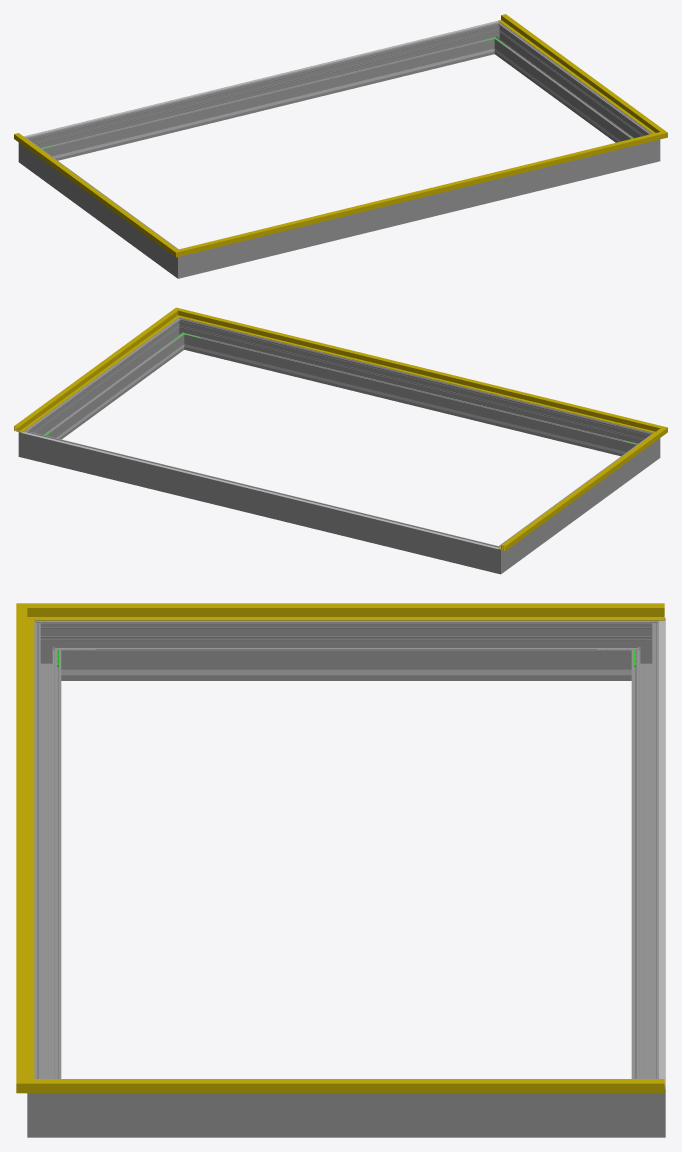
3 views of the same model, one above another, from view 1: azimuth 30°, elevation 25°; view 2: azimuth 150°, elevation 25°; view 3: azimuth 270°, elevation 25° (orthographic). The views are drawn at different scales.
Visible parts, largest first — view 1: 3DGeom-278, 3DGeom-300, 3DGeom-299, 3DGeom-123, 3DGeom-270, 3DGeom-128, 3DGeom-118, 3DGeom-246, 3DGeom-222, 3DGeom-272, 3DGeom-286, 3DGeom-292 (+1 smaller); view 2: 3DGeom-300, 3DGeom-278, 3DGeom-299, 3DGeom-123, 3DGeom-270, 3DGeom-128, 3DGeom-118, 3DGeom-241, 3DGeom-222, 3DGeom-280, 3DGeom-286, 3DGeom-292 (+1 smaller); view 3: 3DGeom-270, 3DGeom-299, 3DGeom-278, 3DGeom-300, 3DGeom-118, 3DGeom-128, 3DGeom-123, 3DGeom-234, 3DGeom-222, 3DGeom-286, 3DGeom-292, 3DGeom-280 (+3 smaller).
Boxes of the visible parts, x1,y1,x2,y2 form: 3DGeom-278: (37, 25, 491, 160); 3DGeom-300: (195, 143, 642, 274); 3DGeom-299: (496, 28, 647, 142); 3DGeom-123: (191, 135, 650, 252); 3DGeom-270: (28, 143, 173, 271); 3DGeom-128: (498, 14, 657, 131); 3DGeom-118: (14, 133, 170, 249); 3DGeom-246: (58, 52, 477, 157); 3DGeom-222: (24, 20, 499, 137); 3DGeom-272: (168, 245, 195, 278); 3DGeom-286: (485, 22, 508, 54); 3DGeom-292: (643, 130, 660, 165); 3DGeom-300: (187, 321, 641, 456); 3DGeom-278: (36, 434, 486, 569); 3DGeom-299: (31, 323, 182, 439); 3DGeom-123: (189, 312, 649, 431); 3DGeom-270: (505, 439, 650, 566); 3DGeom-128: (14, 315, 173, 432); 3DGeom-118: (498, 434, 657, 550); 3DGeom-241: (201, 348, 620, 452); 3DGeom-222: (21, 432, 498, 548); 3DGeom-280: (483, 541, 510, 574); 3DGeom-286: (18, 425, 38, 460); 3DGeom-292: (171, 317, 193, 350); 3DGeom-270: (68, 620, 624, 680); 3DGeom-299: (68, 1093, 624, 1137); 3DGeom-278: (631, 635, 665, 1078); 3DGeom-300: (34, 635, 61, 1078); 3DGeom-118: (57, 603, 664, 620); 3DGeom-128: (57, 1079, 664, 1093); 3DGeom-123: (16, 620, 34, 1075); 3DGeom-234: (100, 669, 592, 675); 3DGeom-222: (659, 620, 665, 1086); 3DGeom-286: (625, 1071, 665, 1137); 3DGeom-292: (27, 1071, 67, 1137); 3DGeom-280: (625, 617, 665, 680).
Size of the model in its own units: 4.27 by 0.2434 by 2.44.
